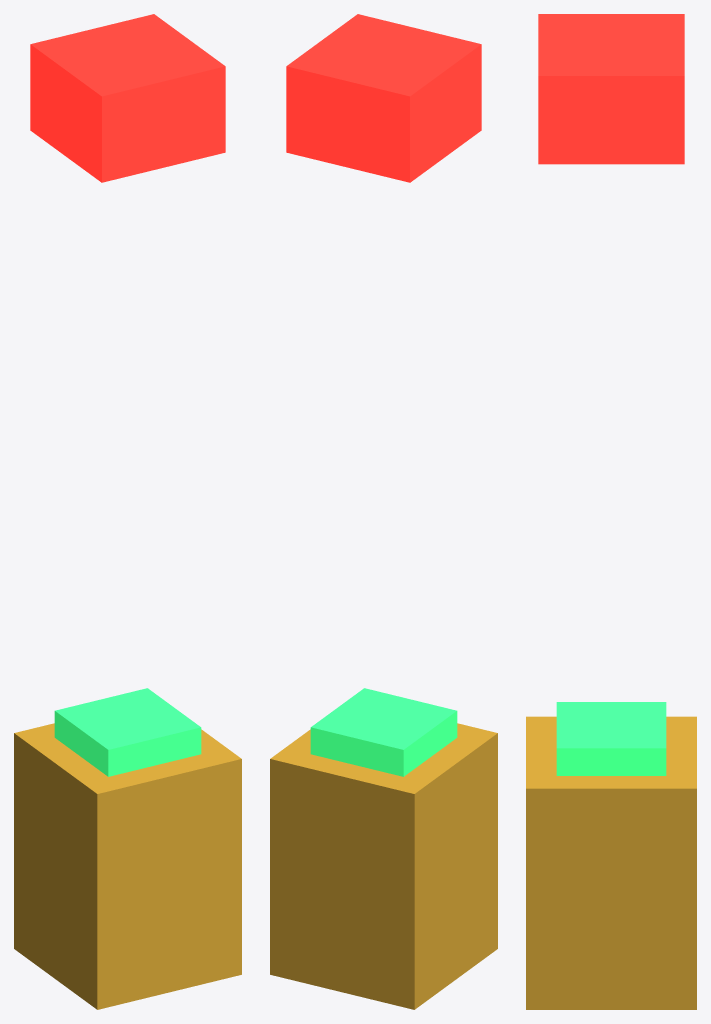
The model's file is Sensor.gltf.
3 views of the same model, side by side, from view 1: azimuth 30°, elevation 25°; view 2: azimuth 150°, elevation 25°; view 3: azimuth 270°, elevation 25° (orthographic). The views are drawn at different scales.
Visible parts, largest first — view 1: Body, Fault, Indicator; view 2: Body, Fault, Indicator; view 3: Body, Fault, Indicator.
Boxes of the visible parts, box(x1,y1,x2,y2) form: Body: box(14, 723, 241, 1009); Fault: box(30, 14, 225, 182); Indicator: box(54, 688, 201, 776); Body: box(270, 723, 497, 1009); Fault: box(286, 14, 481, 182); Indicator: box(310, 688, 457, 776); Body: box(526, 716, 696, 1009); Fault: box(538, 14, 684, 164); Indicator: box(556, 702, 666, 775).
Size of the model in its own units: 0.07 by 0.42 by 0.07.
